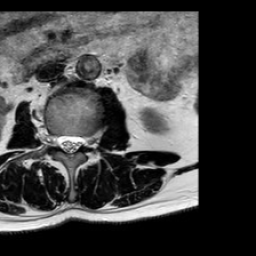CCS_normal: (66, 127, 74, 162)
LFS_normal: (84, 125, 93, 157)
LLS_normal: (74, 126, 84, 157)
RFS_normal: (48, 123, 57, 154)
RLS_normal: (57, 127, 66, 156)
